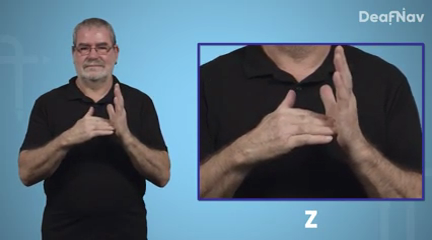Z: (237, 44, 367, 174), (67, 80, 134, 152)
